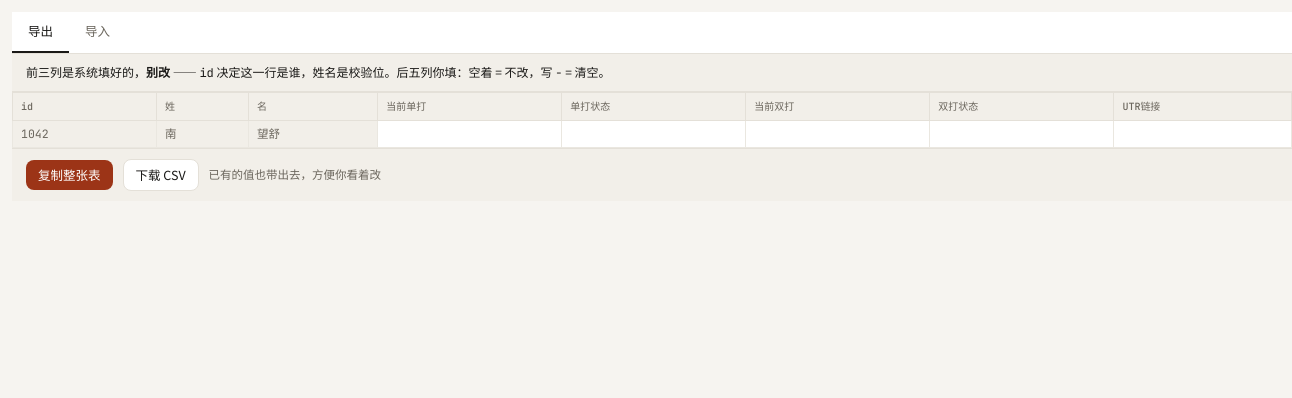
Test: when the round trip fails › says a failed write landed nothing, so retrying is safe
Click the button "导入": (98, 32) [69,12,126,53]
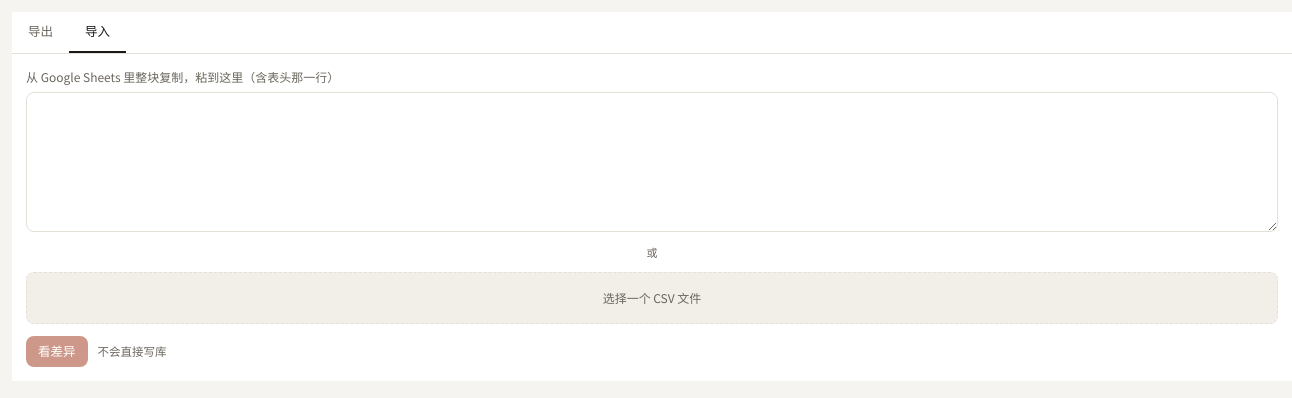
In the text box: (652, 162) [26,92,1278,232], type "SHEET-TEXT"
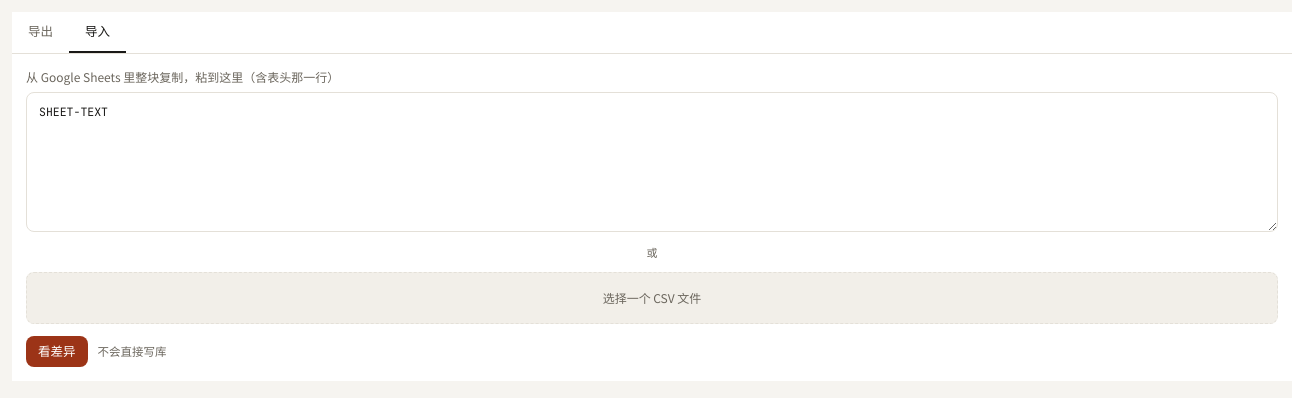
Click the button "看差异": (57, 352) [26,336,88,367]
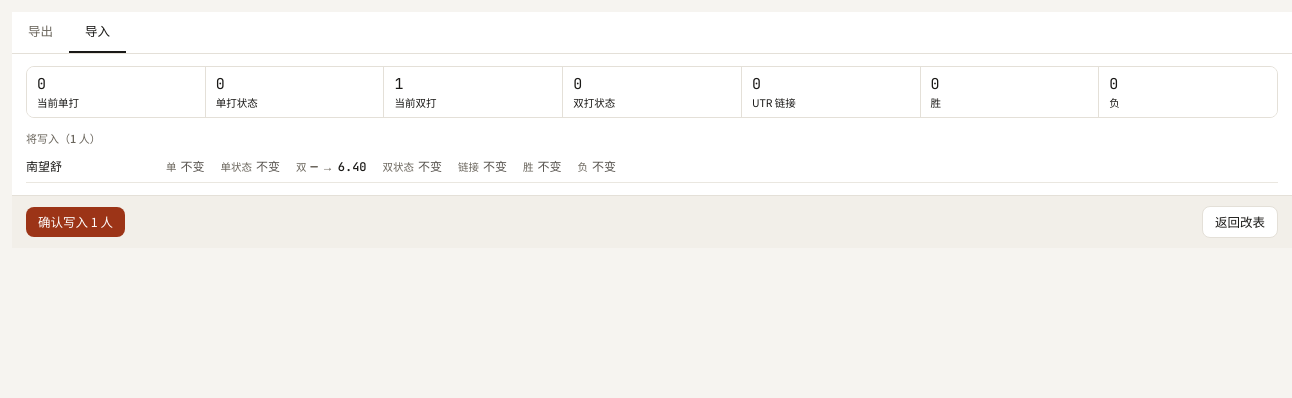
Click the button "确认写入 1 人": (76, 222) [26,206,125,237]
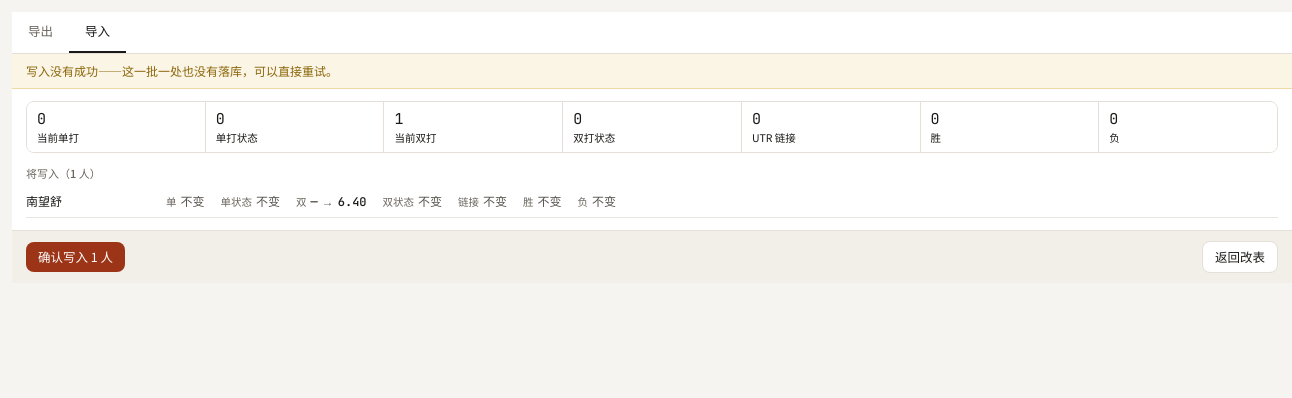
Now the text "写入没有成功——这一批一处也没有落库，可以直接重试。" is shown, box [12,54,1291,89]
